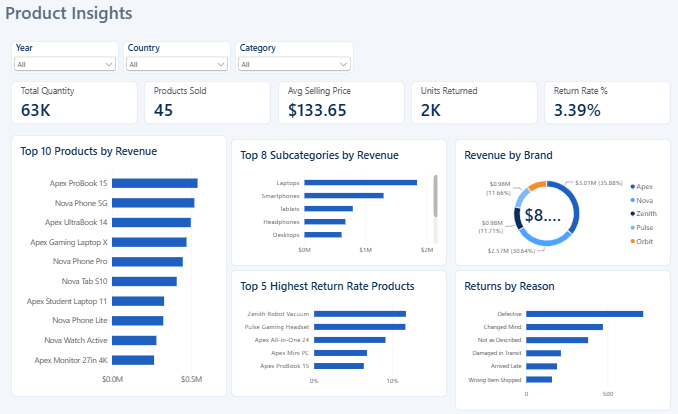

What the dashboard file says about the page in this screenshot:
{"tool":"powerbi","page":{"name":"Product","canvas":[1920,800],"ordinal":2},"visuals":[{"type":"textbox","box":[9,0,505.2,50.3],"z":0},{"type":"slicer","fields":{"Values":["Calendar.Year"]},"box":[20,75,200,60],"z":1},{"type":"slicer","fields":{"Values":["Territories.Country"]},"box":[228,75,200,60],"z":2},{"type":"slicer","fields":{"Values":["Products.Category"]},"box":[436,75,220,60],"z":3},{"type":"cardVisual","fields":{"Data":["Sales.Total Quantity"]},"box":[20,150,235,80],"z":4},{"type":"cardVisual","fields":{"Data":["Products.Products Sold"]},"box":[267,150,235,80],"z":5},{"type":"cardVisual","fields":{"Data":["Sales.Avg Selling Price"]},"box":[513.9,150,235,80],"z":6},{"type":"cardVisual","fields":{"Data":["Returns.Units Returned"]},"box":[760.9,150,235,80],"z":7},{"type":"cardVisual","fields":{"Data":["Returns.Return Rate %"]},"box":[1007.9,150,235,80],"z":8},{"type":"clusteredBarChart","title":"Top 10 Products by Revenue","fields":{"Category":["Products.ProductName"],"Y":["Sales.Total Revenue"]},"box":[20,250,400,485],"z":9},{"type":"clusteredBarChart","title":"Top 8 Subcategories by Revenue","fields":{"Category":["Products.Subcategory"],"Y":["Sales.Total Revenue"]},"box":[426.9,257.2,400,235],"z":10},{"type":"donutChart","title":"Revenue by Brand","fields":{"Category":["Products.Brand"],"Y":["Sales.Total Revenue"]},"box":[842.6,257.4,400,235],"z":11},{"type":"clusteredBarChart","title":"Top 5 Highest Return Rate Products","fields":{"Category":["Products.ProductName"],"Y":["Returns.Return Rate %"]},"box":[427.8,500,400,235],"z":12},{"type":"clusteredBarChart","title":"Returns by Reason\t","fields":{"Category":["Returns.ReturnReason"],"Y":["Returns.Units Returned"]},"box":[842.6,500,400,260],"z":13}]}

Visuals, with their boxes on the page's 1920x800 design canvas (x1, y1, x2, y2). These are canvas units, not pixel positions in the 678x414 screenshot, which may show the page scaled, cropped or inside an application window:
textbox: (9,0,514,50)
slicer - Calendar.Year: (20,75,220,135)
slicer - Territories.Country: (228,75,428,135)
slicer - Products.Category: (436,75,656,135)
cardVisual - Sales.Total Quantity: (20,150,255,230)
cardVisual - Products.Products Sold: (267,150,502,230)
cardVisual - Sales.Avg Selling Price: (514,150,749,230)
cardVisual - Returns.Units Returned: (761,150,996,230)
cardVisual - Returns.Return Rate %: (1008,150,1243,230)
"Top 10 Products by Revenue" clusteredBarChart: (20,250,420,735)
"Top 8 Subcategories by Revenue" clusteredBarChart: (427,257,827,492)
"Revenue by Brand" donutChart: (843,257,1243,492)
"Top 5 Highest Return Rate Products" clusteredBarChart: (428,500,828,735)
"Returns by Reason	" clusteredBarChart: (843,500,1243,760)
